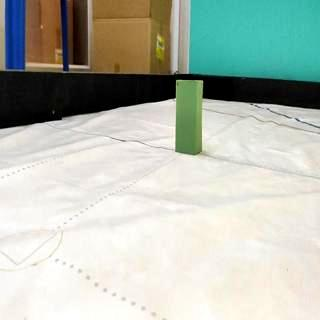greenbox: (174, 78, 204, 155)
